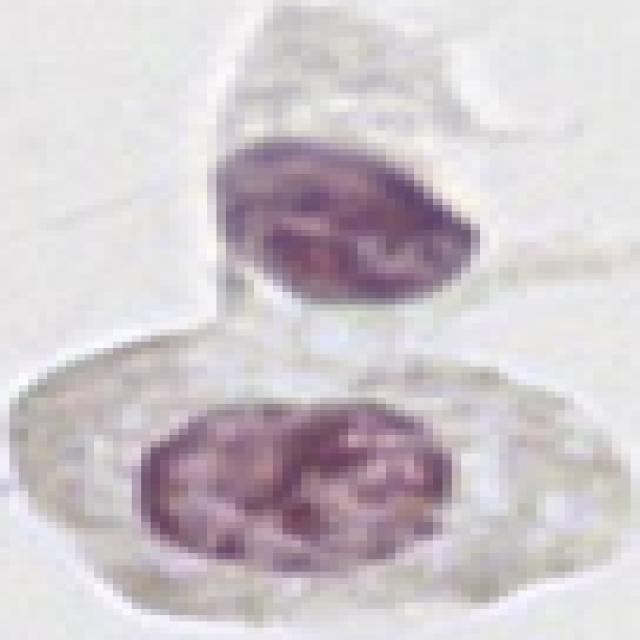cytoplasm: (5, 322, 632, 621)
nucleus: (133, 390, 460, 582), (203, 123, 492, 334)
